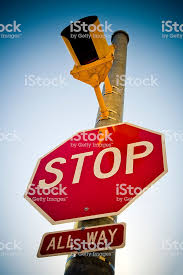Stop: (26, 123, 182, 214)
